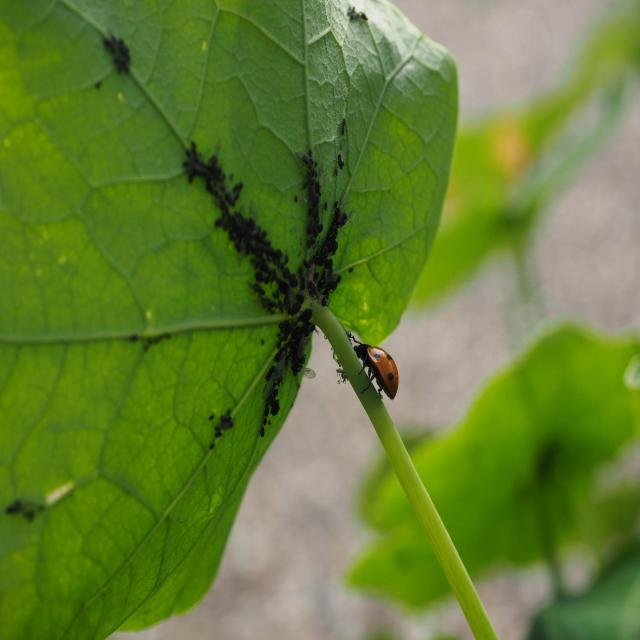Aphids: (24, 106, 298, 191)
